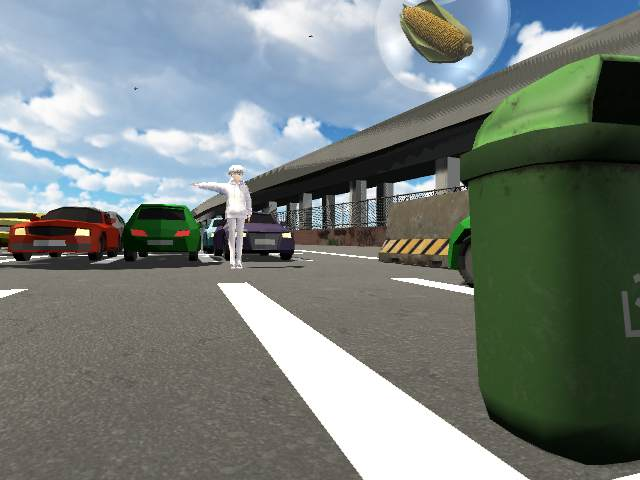singleP_left: (191, 163, 252, 273)
